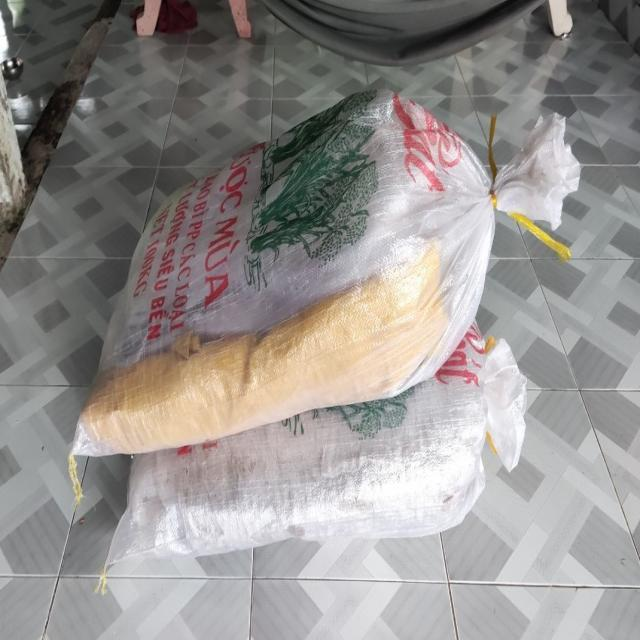gunny_bag: (72, 90, 580, 455), (106, 324, 504, 569)
